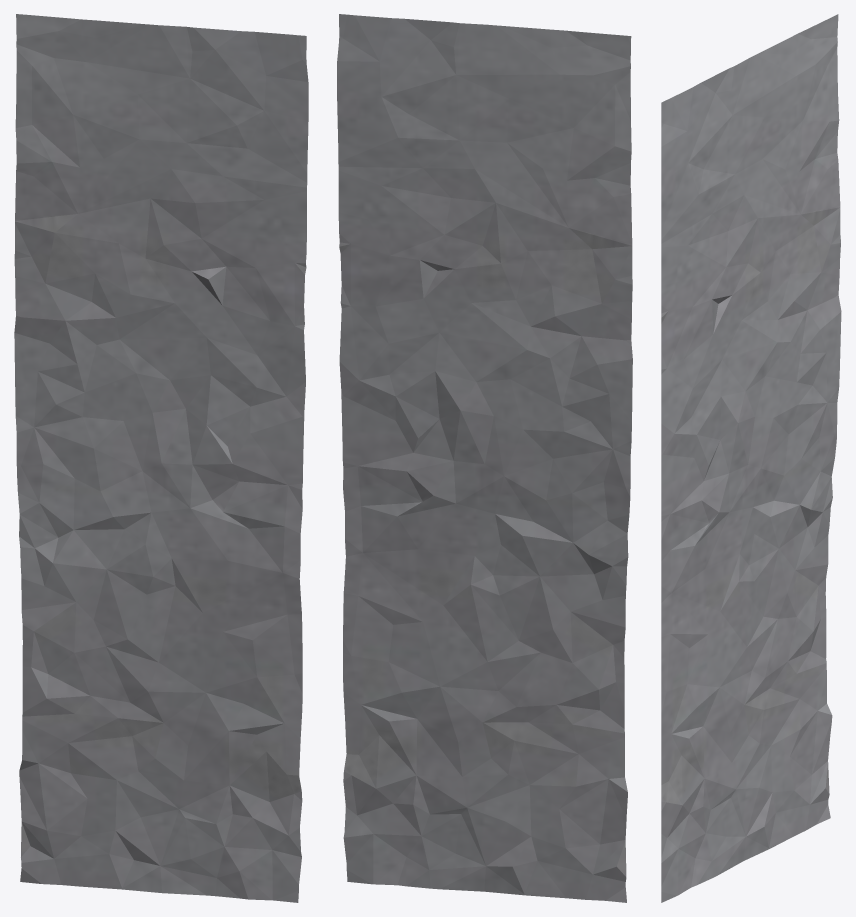
3 renders of one model, left to right at view 1: azimuth 30°, elevation 25°; view 2: azimuth 210°, elevation 25°; view 3: azimuth 270°, elevation 25°, orthographic. The views are drawn at different scales.
Size of the model in its own units: 0.1999 by 0.8374 by 0.1699.
1 material, 1 textured.
